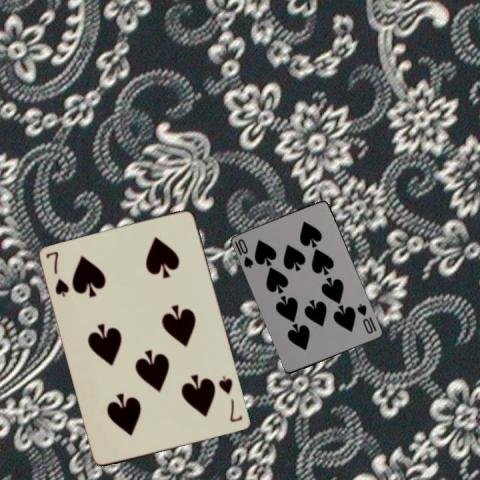10s: (354, 302, 375, 336), (236, 236, 256, 270)
7s: (215, 373, 244, 424), (43, 248, 71, 299)
